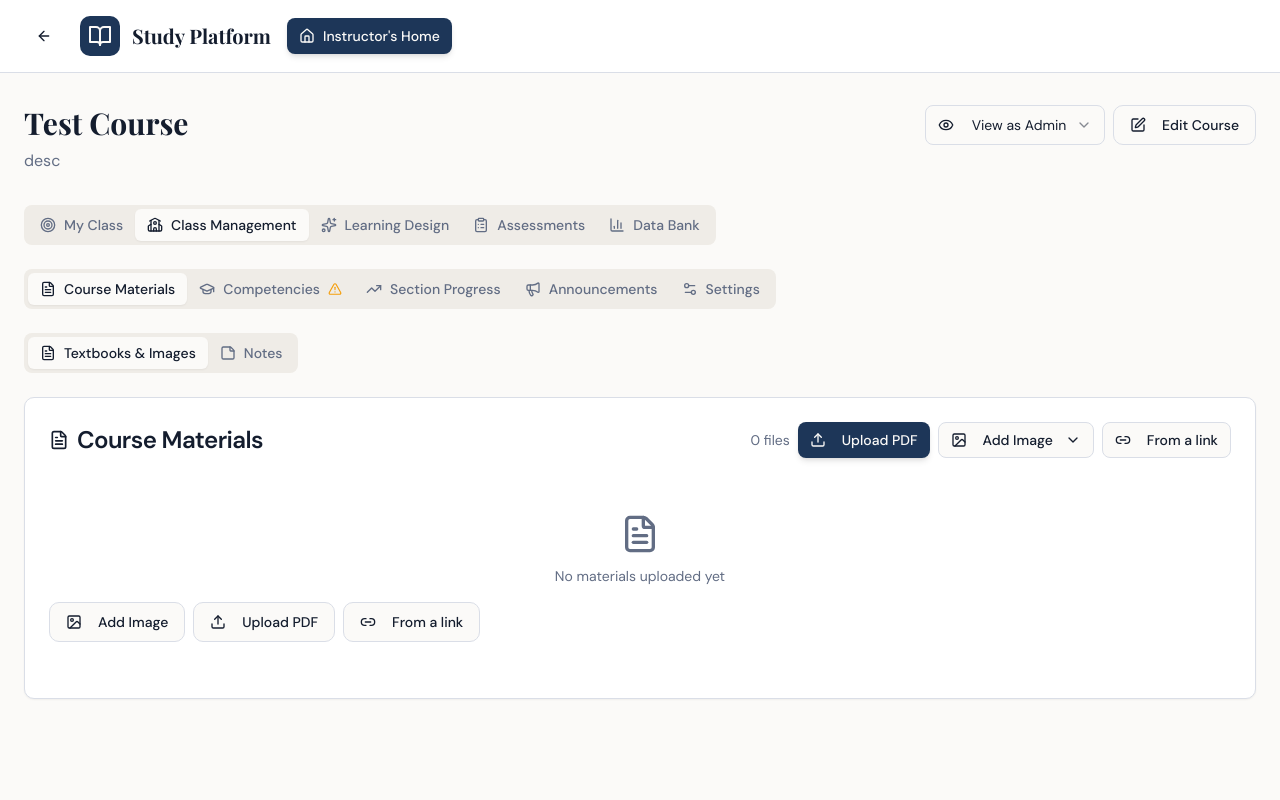
it: CoursePage — Question Bank is unified (#621) › does NOT render the 5 per-type sub-tabs inside Question Bank
Step 1. Click the tab "Learning Design" → click(385, 225), box [308,209,461,241]
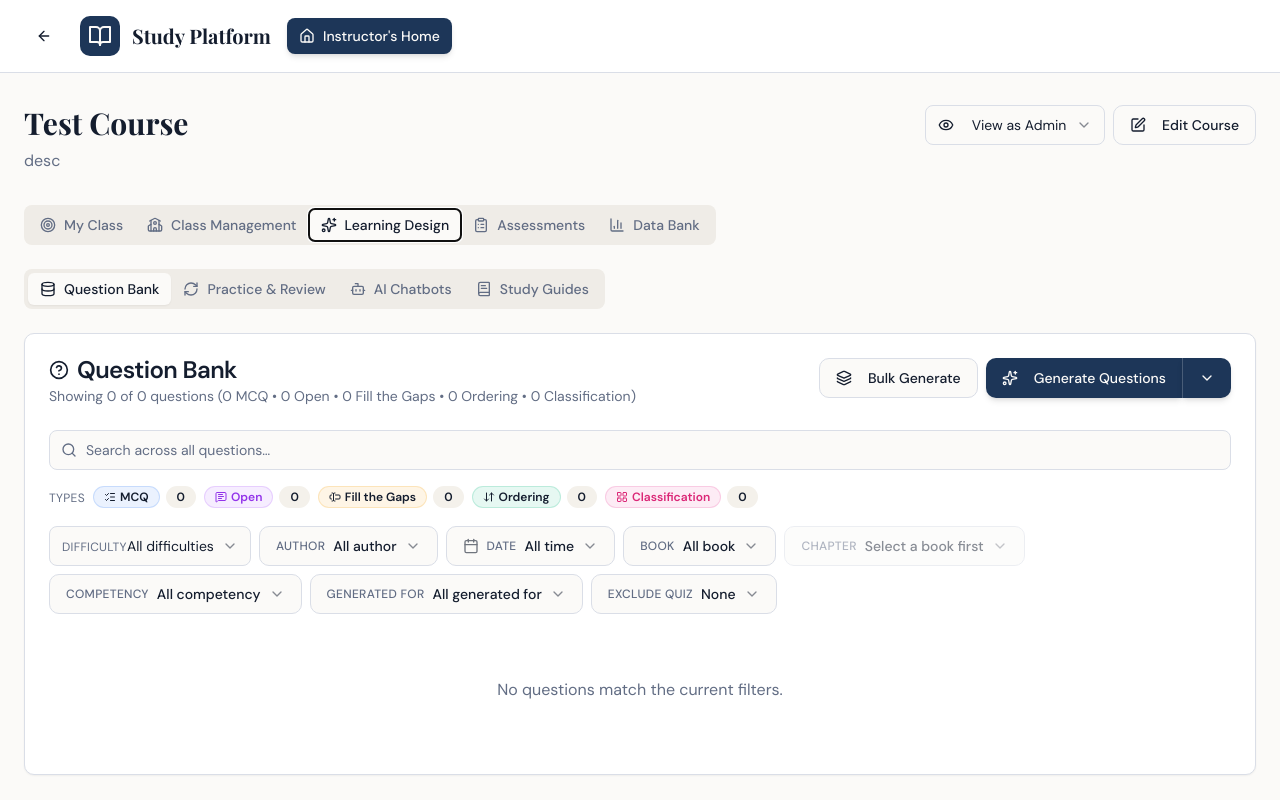
Expected: the tab "Question Bank" is shown, [28,273,171,305]
